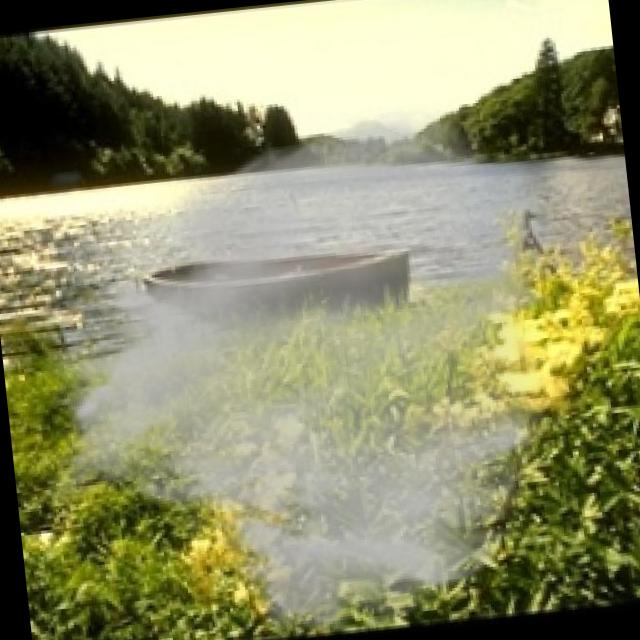Smoke: (6, 89, 603, 640)
